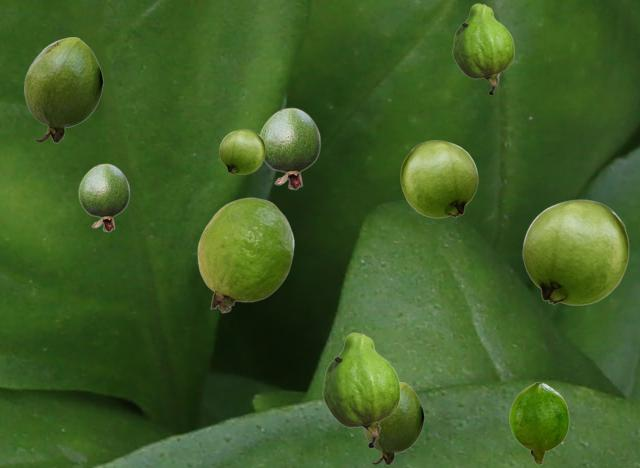guava: (522, 199, 628, 304), (197, 197, 293, 312), (322, 332, 399, 447), (24, 37, 102, 142), (400, 140, 477, 217), (452, 3, 513, 94), (259, 107, 320, 189), (363, 382, 423, 464), (509, 382, 568, 464), (78, 163, 129, 231), (219, 129, 264, 173)
